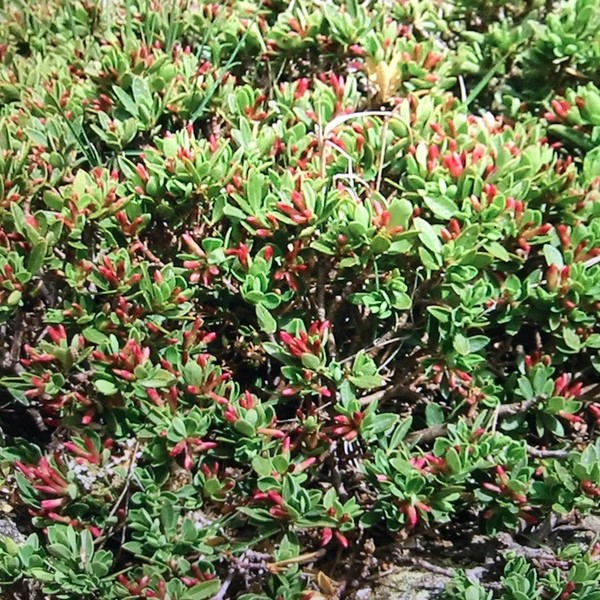obstacle: (63, 111, 532, 502)
